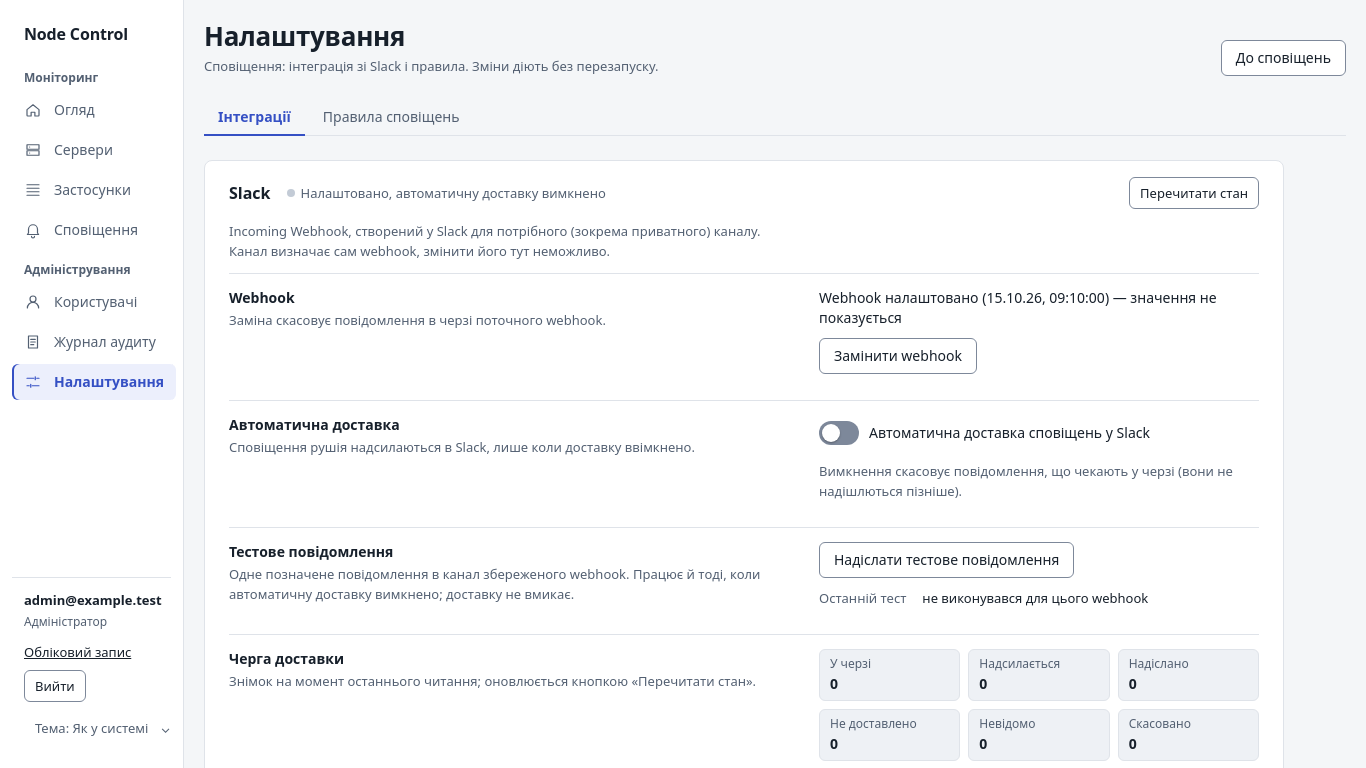
Test: Slack integration tab › test outcome failed (network) is shown as reported, never as success
Click the button "Надіслати тестове повідомлення". click: (947, 560)
box: [819,542,1074,578]
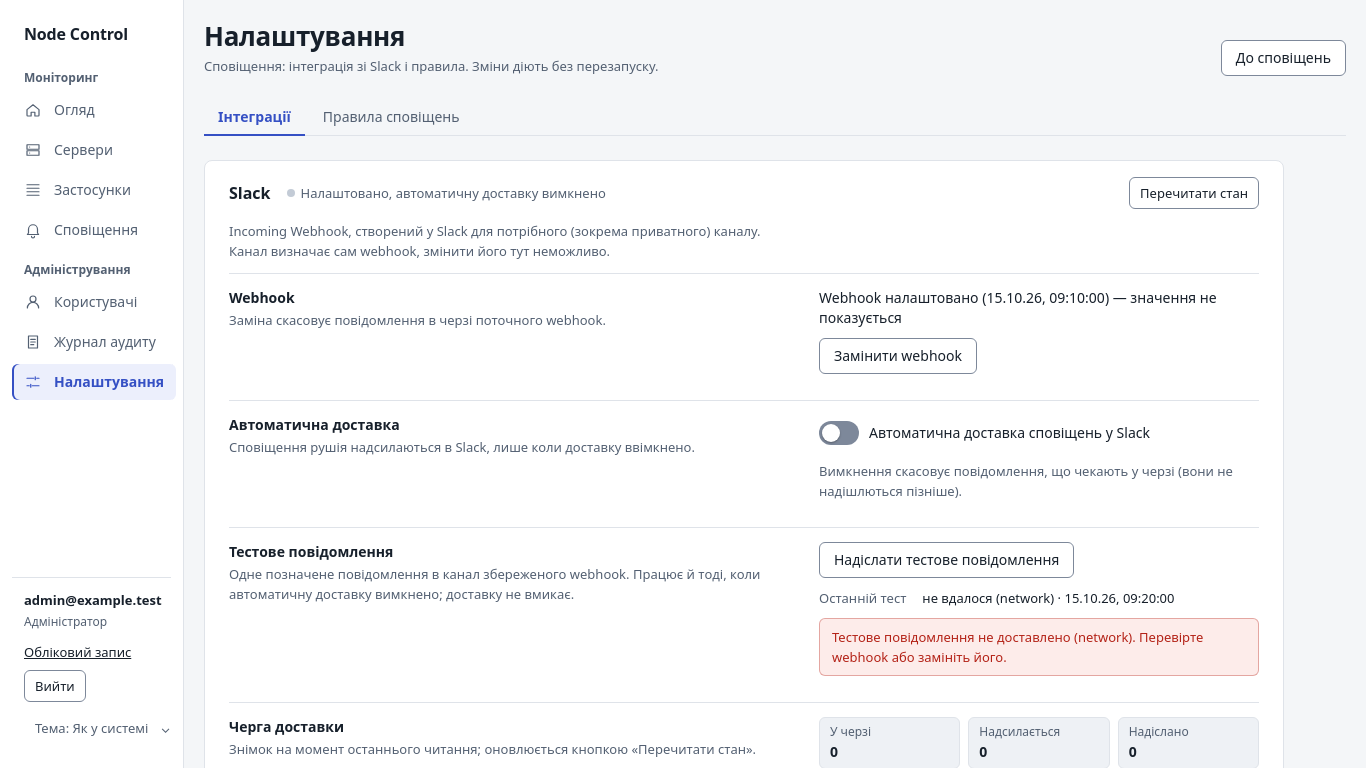
Expected: the text "не вдалося (network) · 15.10.26, 09:20:00" is shown, [922,589,1174,607]
